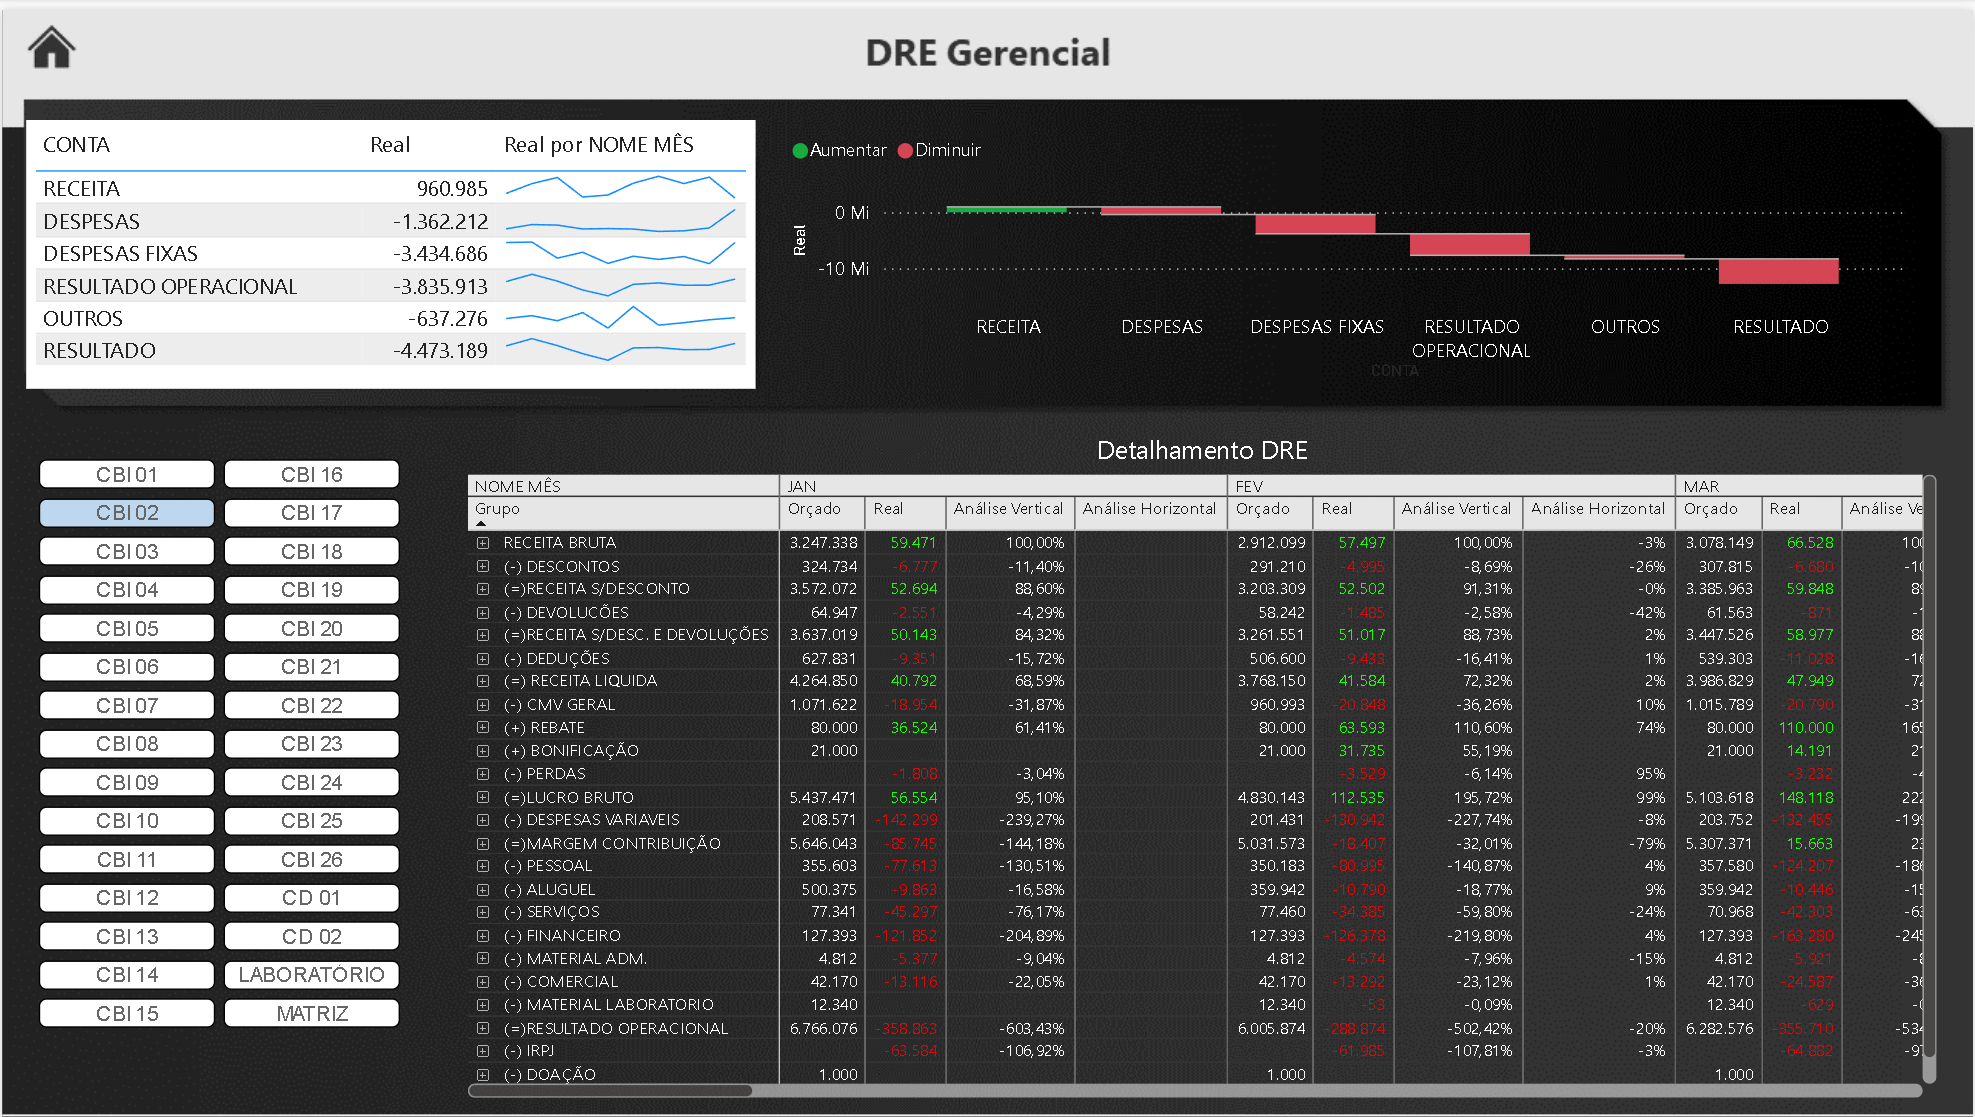

This screenshot's page, from the dashboard's own definition file:
{"tool":"powerbi","page":{"name":"Página 1","canvas":[1280,720],"ordinal":0},"visuals":[{"type":"ChicletSlicer1448559807354","fields":{"Category":["fRealizado.LOJA"]},"box":[15.7,283.4,263.2,427.9],"z":0},{"type":"pivotTable","title":"Detalhamento DRE","fields":{"Rows":["dMascara.Grupo","dContas.CONTA_FILHO"],"Values":["_Medidas.Orçado","_Medidas.Real Final","_Medidas.Análise Vertical","_Medidas.Análise Horizontal"],"Columns":["dCalendário.NOME MÊS"]},"box":[296.8,273.3,964.4,438],"z":1000},{"type":"waterfallChart","fields":{"Y":["_Medidas.Real"],"Category":["dGrupo.CONTA"]},"box":[507.4,71.7,732.6,173.6],"z":2000},{"type":"tableEx","fields":{"Values":["dGrupo.CONTA","_Medidas.Real","SparklineData(_Medidas.Real_[dCalendário.NOME MÊS])"]},"box":[15.7,71.7,473.8,174.7],"z":3000}]}

Visuals, with their boxes in screenshot pixels (x1, y1, x2, y2), scaled from the page's 1280x720 canvas onto the 1975x1117 screenshot:
ChicletSlicer1448559807354 - fRealizado.LOJA: crop(24, 440, 430, 1104)
"Detalhamento DRE" pivotTable: crop(458, 424, 1946, 1104)
waterfallChart - _Medidas.Real x dGrupo.CONTA: crop(783, 111, 1913, 381)
tableEx - dGrupo.CONTA x _Medidas.Real: crop(24, 111, 755, 382)
